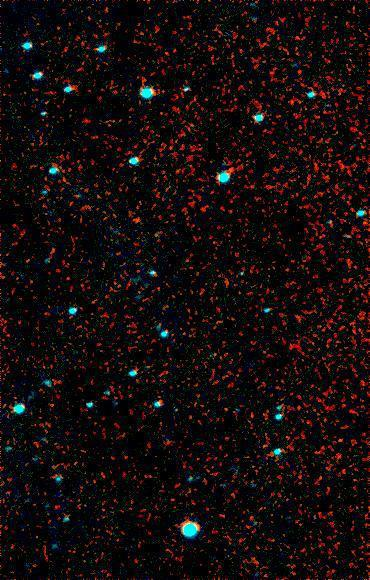star: (119, 201, 149, 231)
